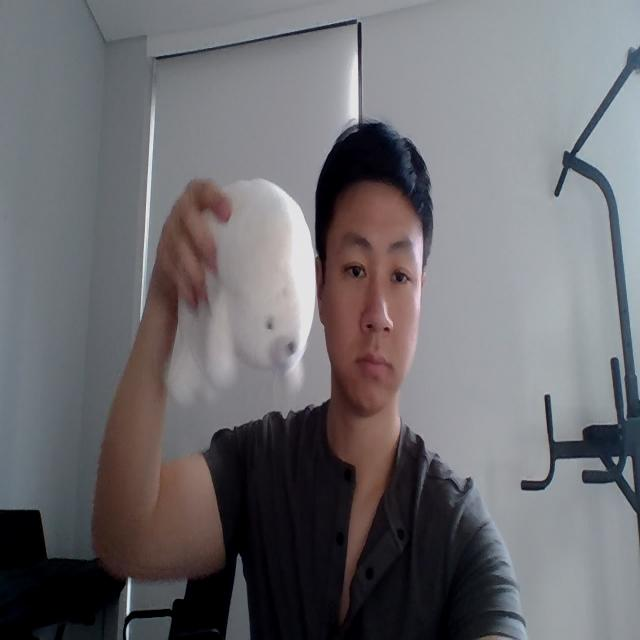seal_bb: (165, 180, 317, 406)
